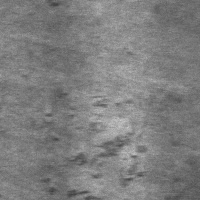rolled-in_scale: (43, 91, 168, 186), (36, 177, 152, 200)
